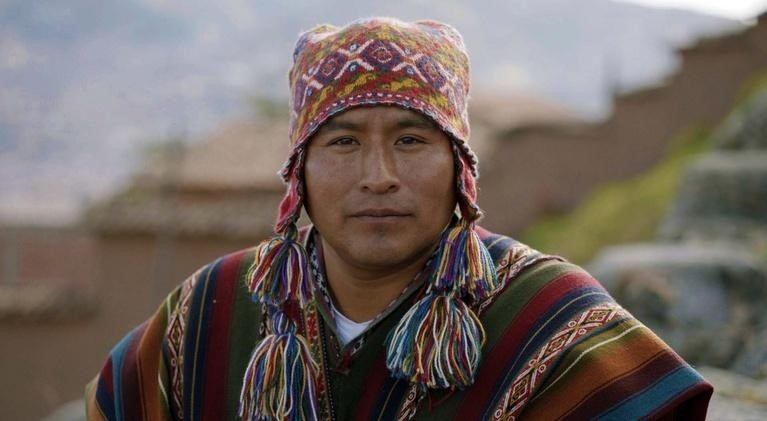face_no_mask: (285, 23, 471, 275)
